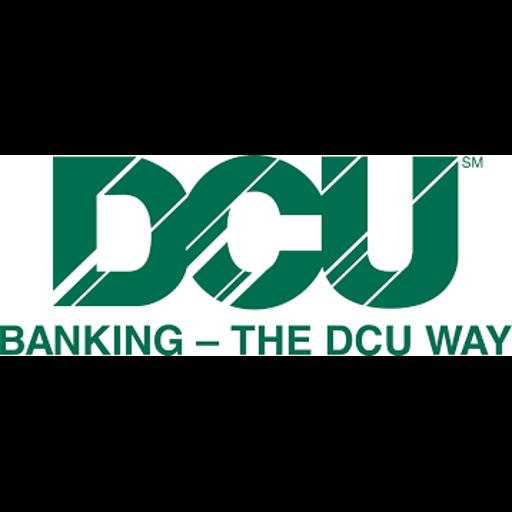Digital Federal Credit Union: (0, 155, 512, 356)
